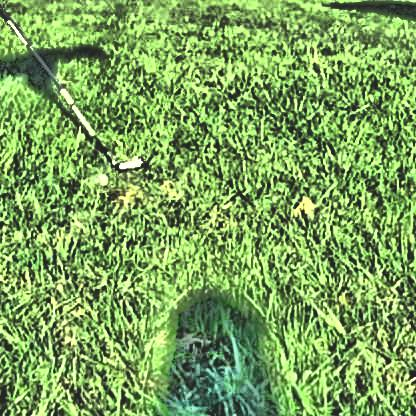golfball: (91, 169, 106, 184)
